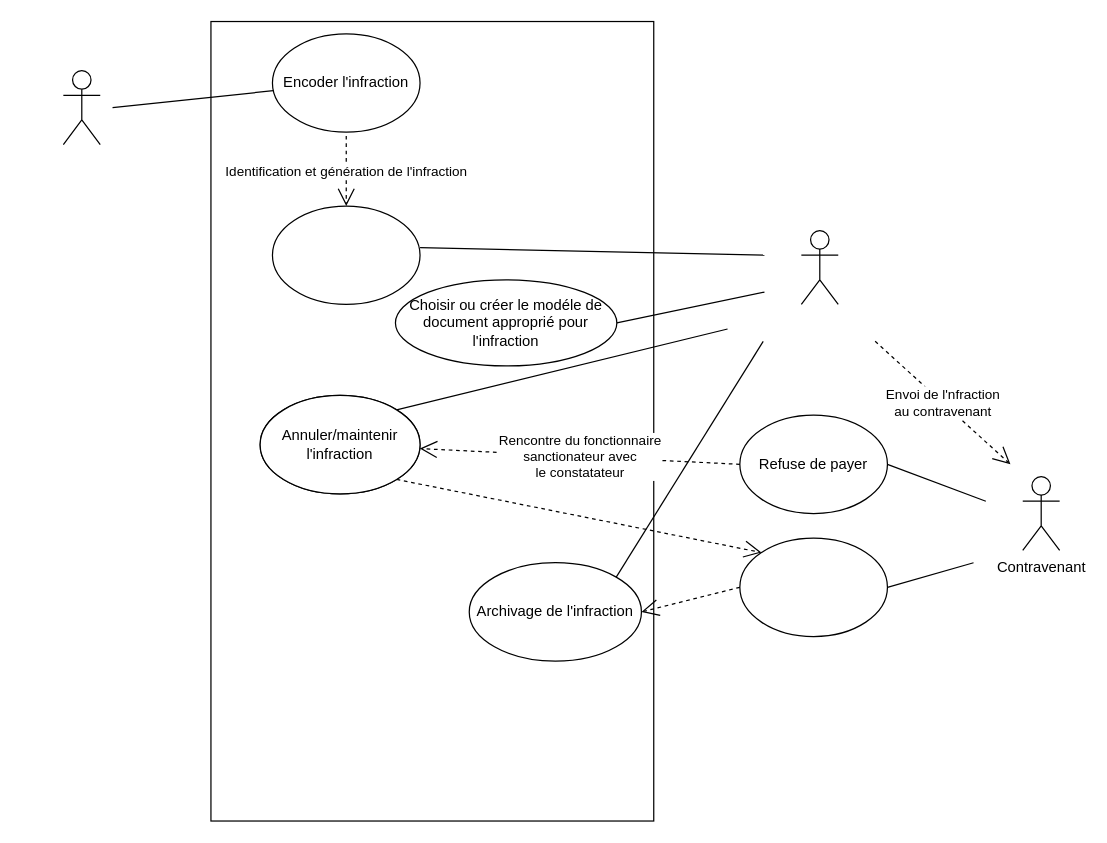
Image size: 1107x843. Some labels were removed from this diagram. Each missing label, with the centre of its shape:
"Agent traitent SAC" goes at (x=81, y=107).
"Fonctionaire sanctionateur" goes at (x=819, y=266).
"Paye l'infraction" goes at (x=813, y=587).
"Valider l'infraction" goes at (x=345, y=254).
